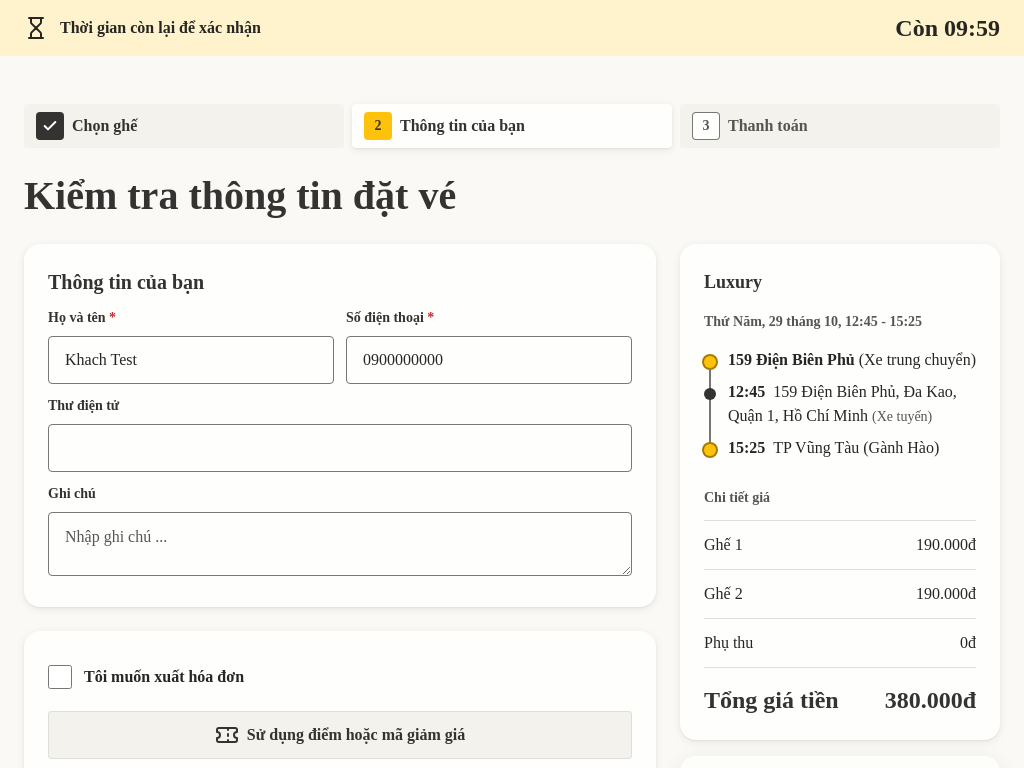
Test: ConfirmPage: kiểm tra form chặn gửi › thiếu họ tên → cảnh báo, không gửi booking
The width and height of the screenshot is (1024, 768).
Clear the field labelled "Họ và tên *" at (191, 360), box [48, 336, 334, 384]
(page scrolled)
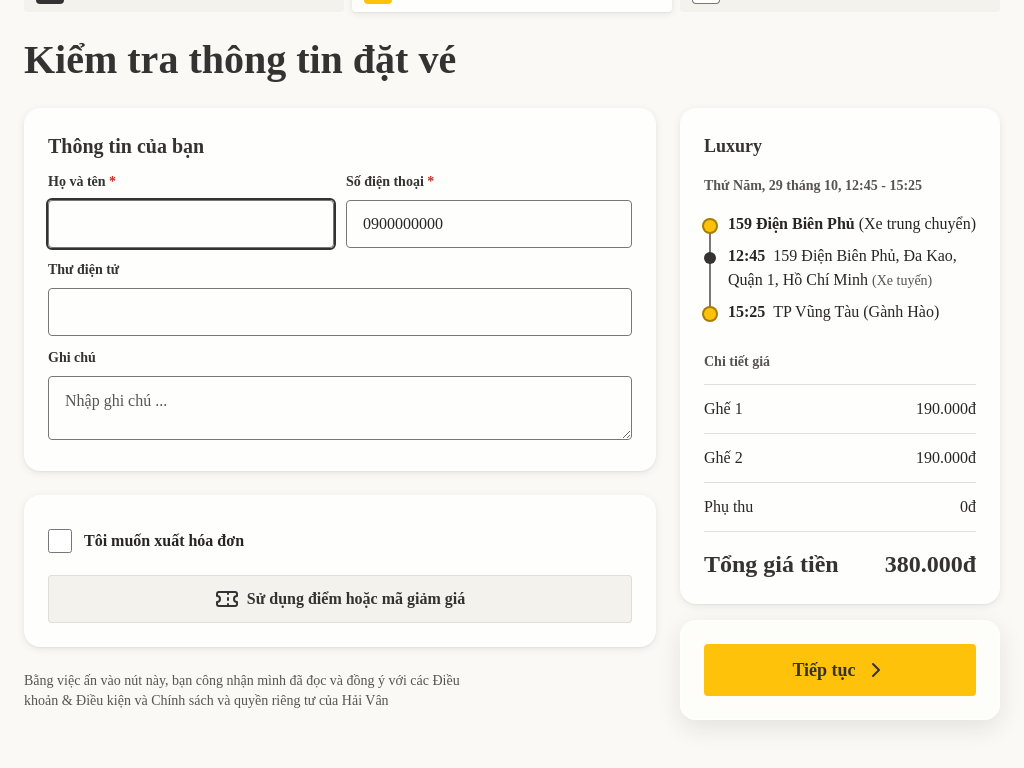
Click the button "Tiếp tục" at (840, 670), box [704, 644, 976, 696]
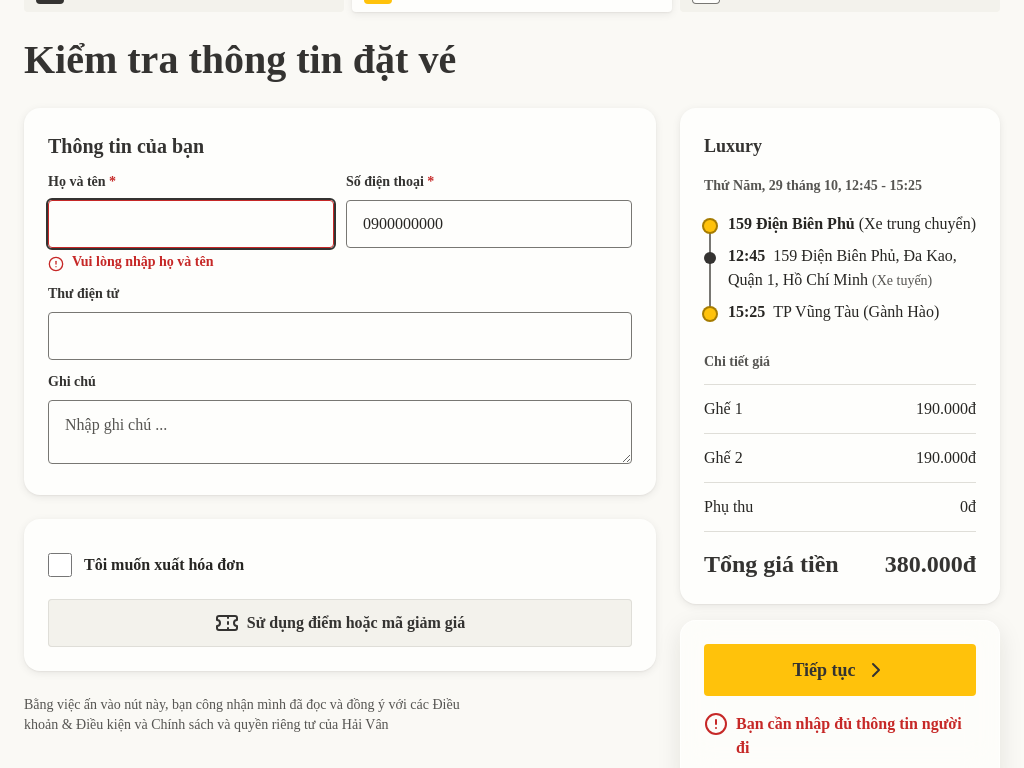
Expected: the text "Bạn cần nhập đủ thông tin người đi" is shown, [704, 712, 976, 760]
